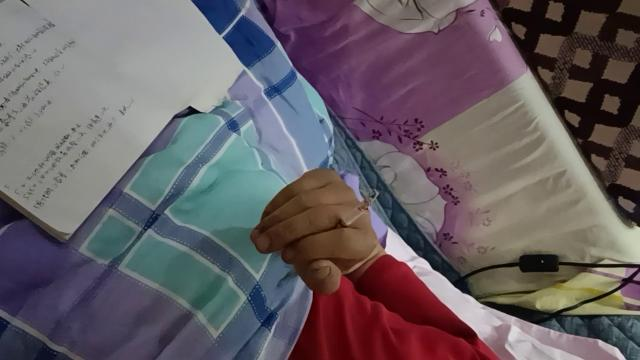Cigarette: (333, 190, 379, 234)
